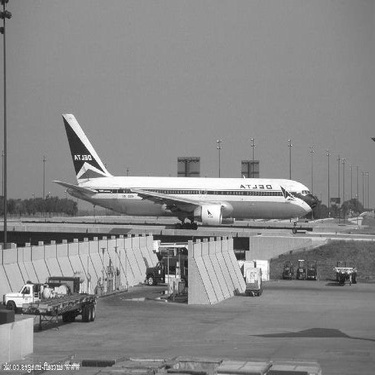airplane: (42, 102, 329, 239)
